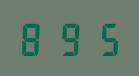eight: (18, 20, 51, 56)
five: (87, 20, 120, 56)
nine: (53, 20, 86, 56)
